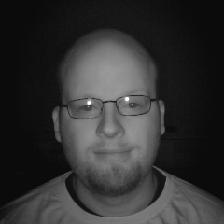happy: (42, 37, 175, 196)
